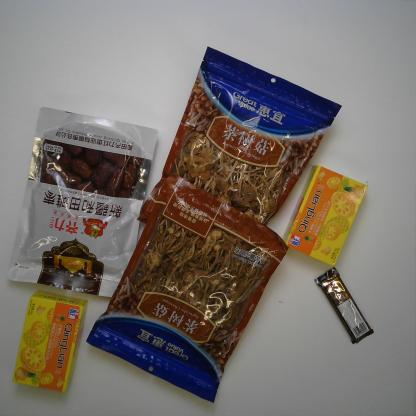Chocolate: (312, 265, 376, 347)
Dessert: (280, 163, 370, 268), (10, 289, 89, 394)
Dried Food: (83, 172, 290, 406), (137, 43, 344, 226), (4, 106, 158, 298)
